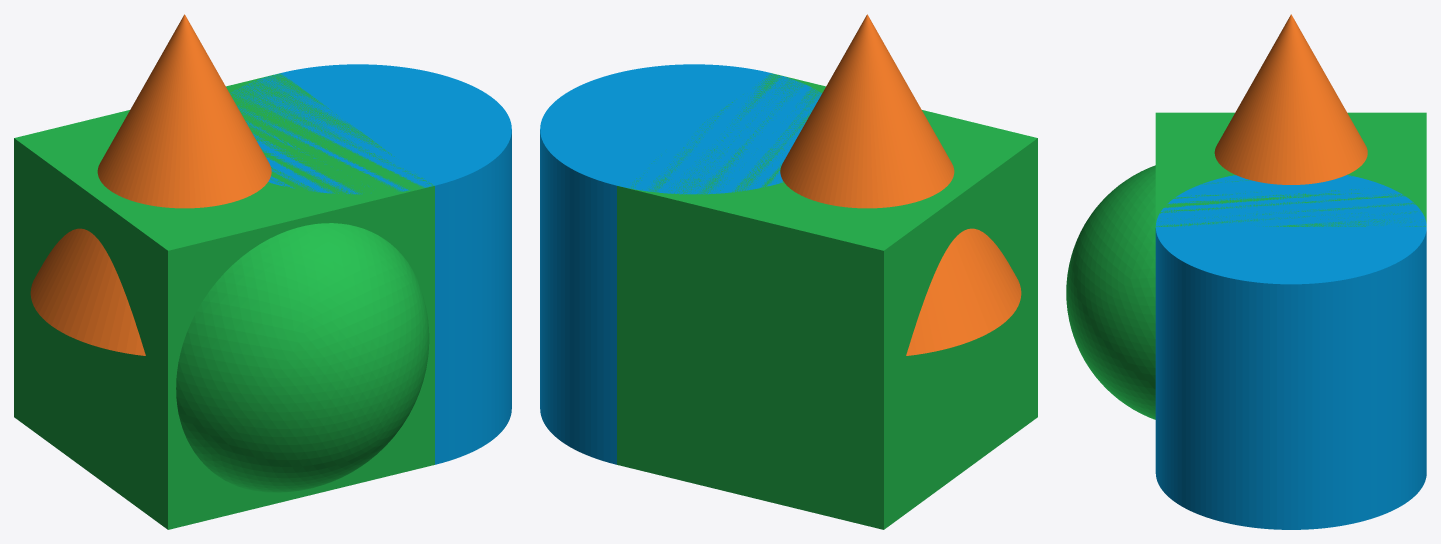
File: Shapes.glb
The picture shows the model from 3 angles, left to right: view 1: azimuth 30°, elevation 25°; view 2: azimuth 150°, elevation 25°; view 3: azimuth 270°, elevation 25°; orthographic projection. The views are drawn at different scales.
Size of the model in its own units: 0.066 by 0.0626 by 0.0532.
